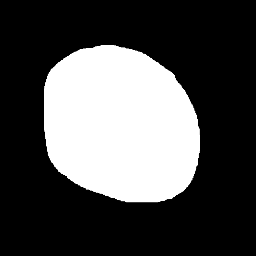mass: (43, 45, 195, 187)
